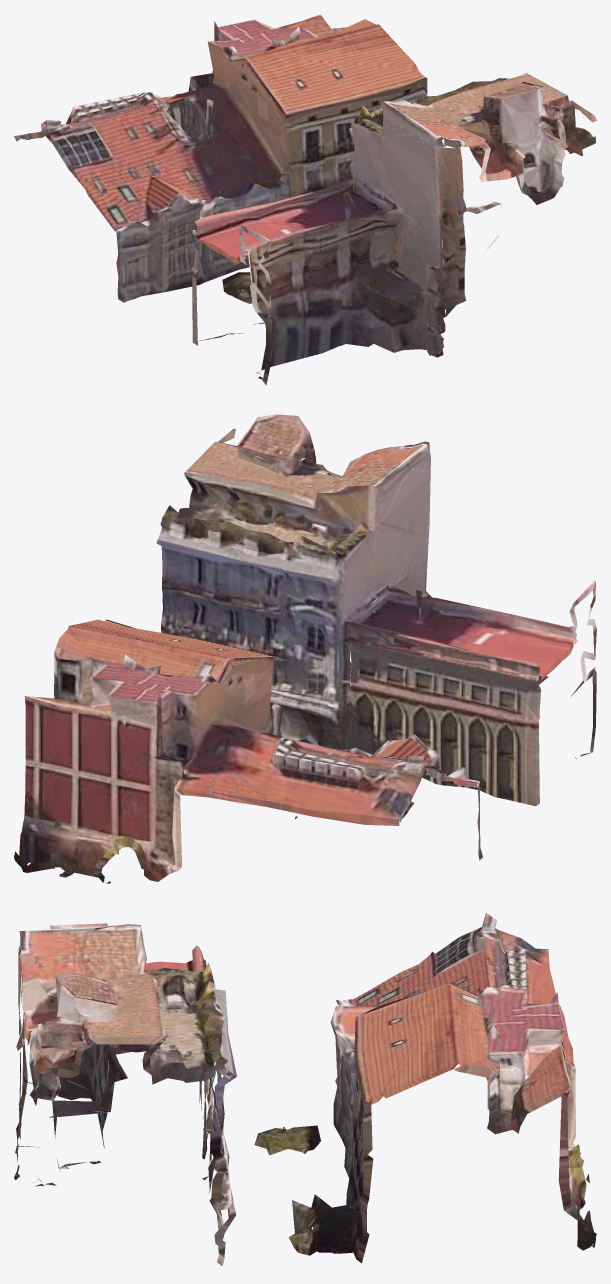
3 views of the same model, one above another, from view 1: azimuth 30°, elevation 25°; view 2: azimuth 150°, elevation 25°; view 3: azimuth 270°, elevation 25° (orthographic). The views are drawn at different scales.
Visible parts, largest first — view 1: Mesh_0; view 2: Mesh_0; view 3: Mesh_0.
Boxes of the visible parts, left/top/right/bottom form: Mesh_0: left=14, top=14, right=596, bottom=385; Mesh_0: left=14, top=414, right=596, bottom=883; Mesh_0: left=14, top=912, right=596, bottom=1265.
Bounding box in the file's own units: 33.77 × 20.32 × 39.94.
Materials: 2 (2 with a texture image).
